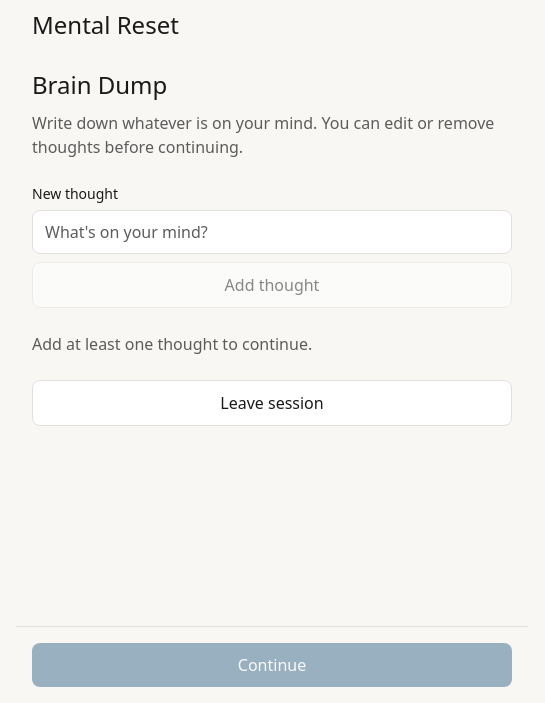
Brain Dump screen › continues to Sorting when at least one thought exists
Type "Plan weekend" into the field labelled "New thought" at (272, 232), box left=32, top=210, right=512, bottom=254
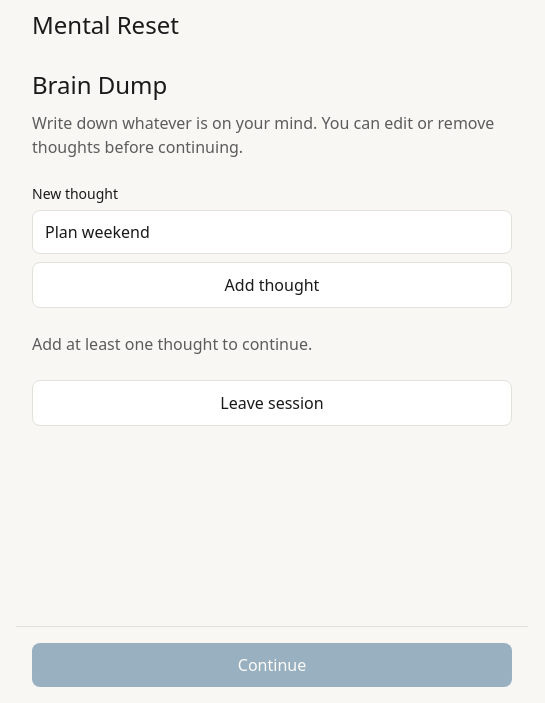
Click the button "Add thought" at (272, 285), box left=32, top=262, right=512, bottom=308
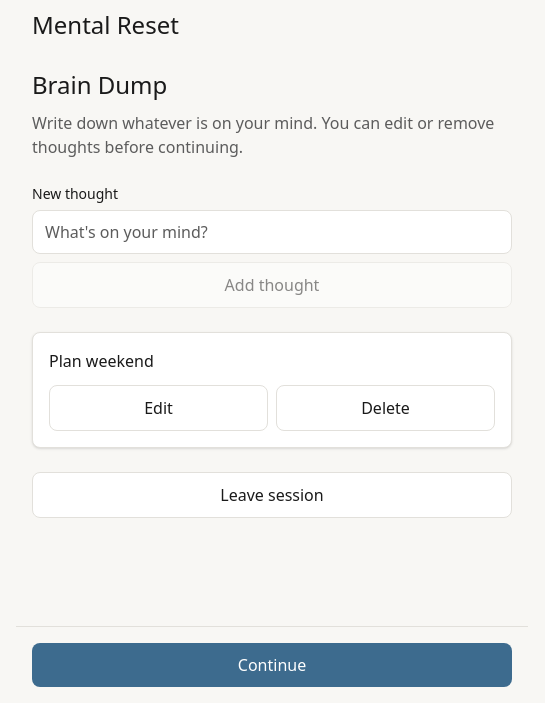
Click the button "Continue" at (272, 665), box left=32, top=643, right=512, bottom=687
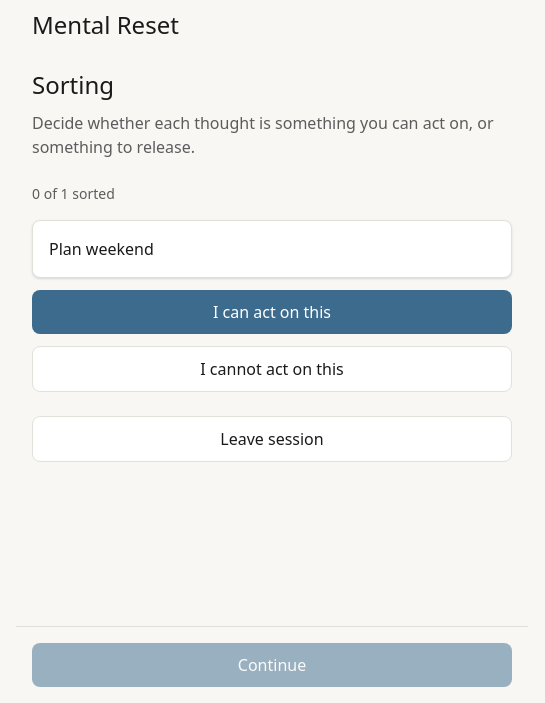
Expected: the heading "Sorting" is shown, left=32, top=68, right=114, bottom=101
